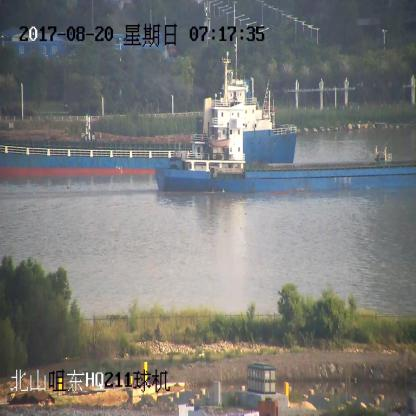Bulk Carrier: (0, 69, 277, 177), (154, 104, 416, 194)
